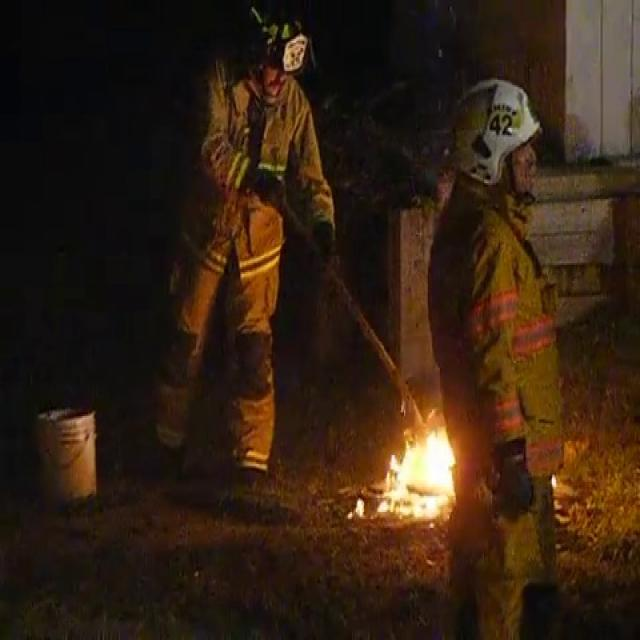Fire: (389, 405, 464, 528)
